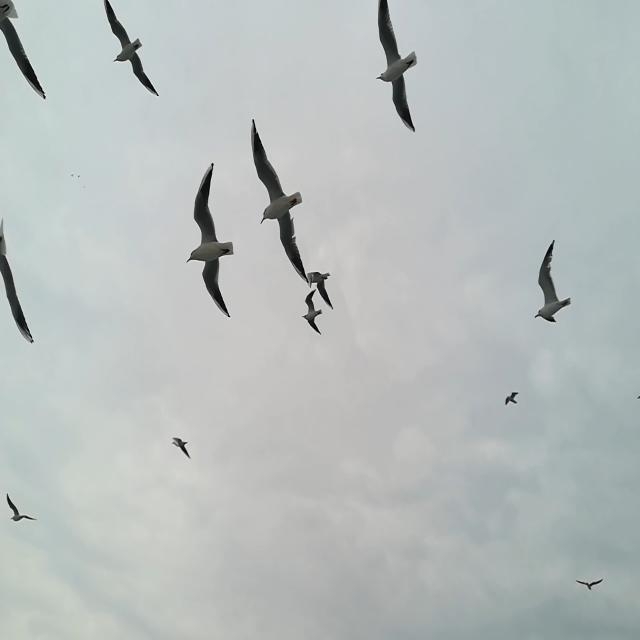bird: (249, 121, 314, 288), (187, 164, 236, 316), (373, 2, 417, 132), (102, 2, 161, 98), (0, 0, 49, 102), (0, 217, 34, 345), (535, 240, 573, 325), (306, 268, 334, 313), (301, 287, 324, 336), (7, 494, 39, 523), (576, 575, 604, 596), (169, 438, 191, 460), (505, 392, 520, 408), (637, 394, 640, 400), (70, 174, 74, 178), (77, 173, 80, 178), (84, 184, 86, 188)
